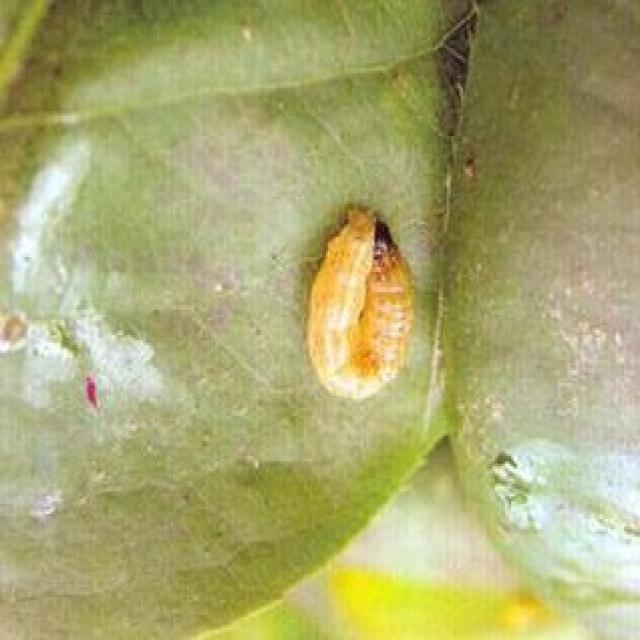peach borer: (304, 203, 419, 399)
